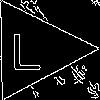L: (9, 24, 42, 70)
